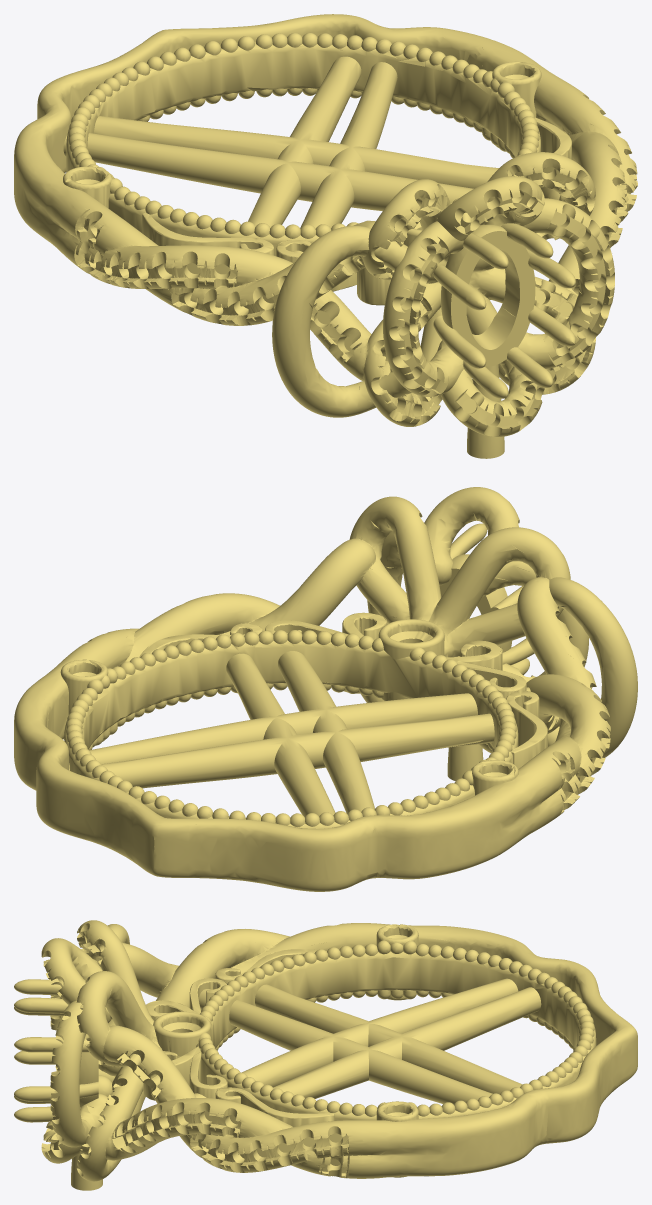
3 views of the same model, one above another, from view 1: azimuth 30°, elevation 25°; view 2: azimuth 150°, elevation 25°; view 3: azimuth 270°, elevation 25° (orthographic). The views are drawn at different scales.
Visible parts, largest first — view 1: Renderer Node; view 2: Renderer Node; view 3: Renderer Node.
Part boxes in pixels (x1,y1,x2,y2): Renderer Node: (14, 14, 637, 458); Renderer Node: (14, 487, 637, 891); Renderer Node: (14, 920, 637, 1190).
Bounding box in the file's own units: 24.19 × 12.83 × 30.06.
